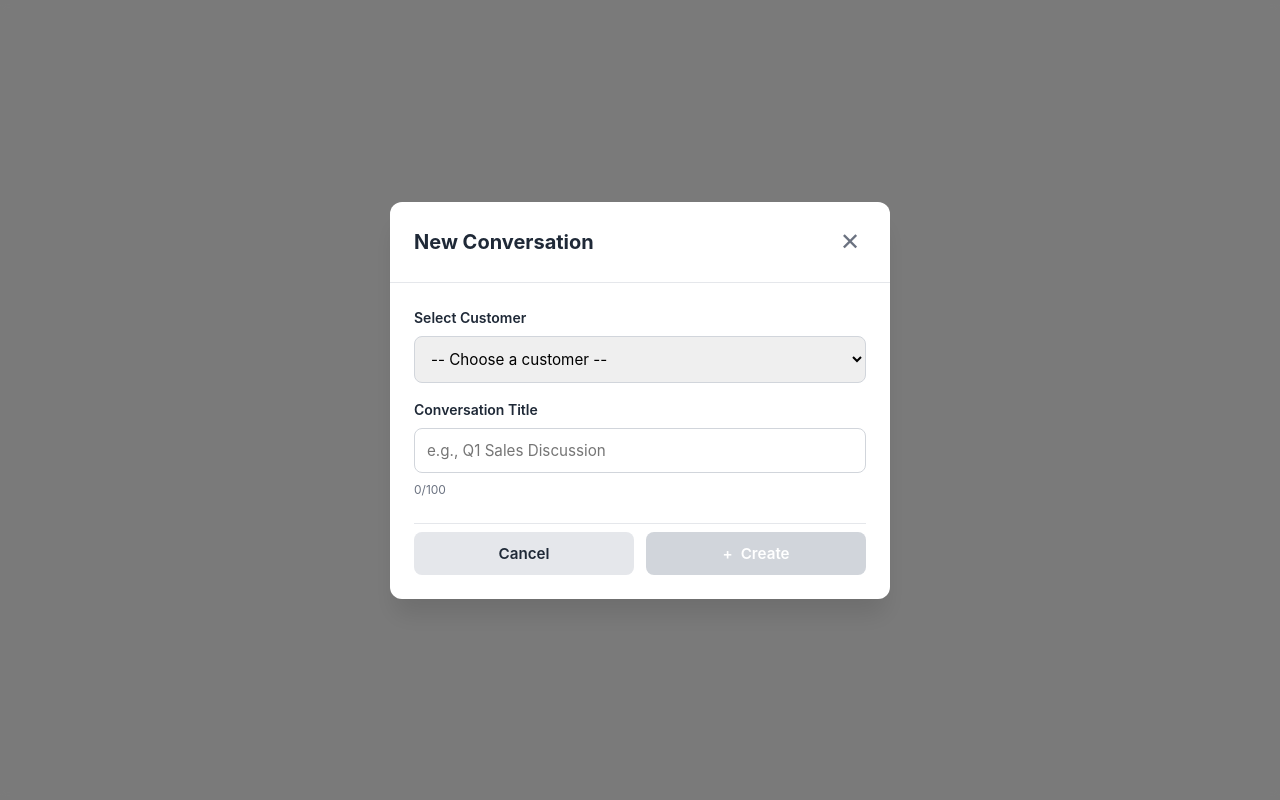
it: CreateConversationModal › should enable submit button when required fields are filled
Expected: the button "+ Create" is disabled, [646,532,866,574]
Select "Test Corp (test@corp.com)" in the dropdown labelled "Select Customer" at (640, 359), box [414,336,866,382]
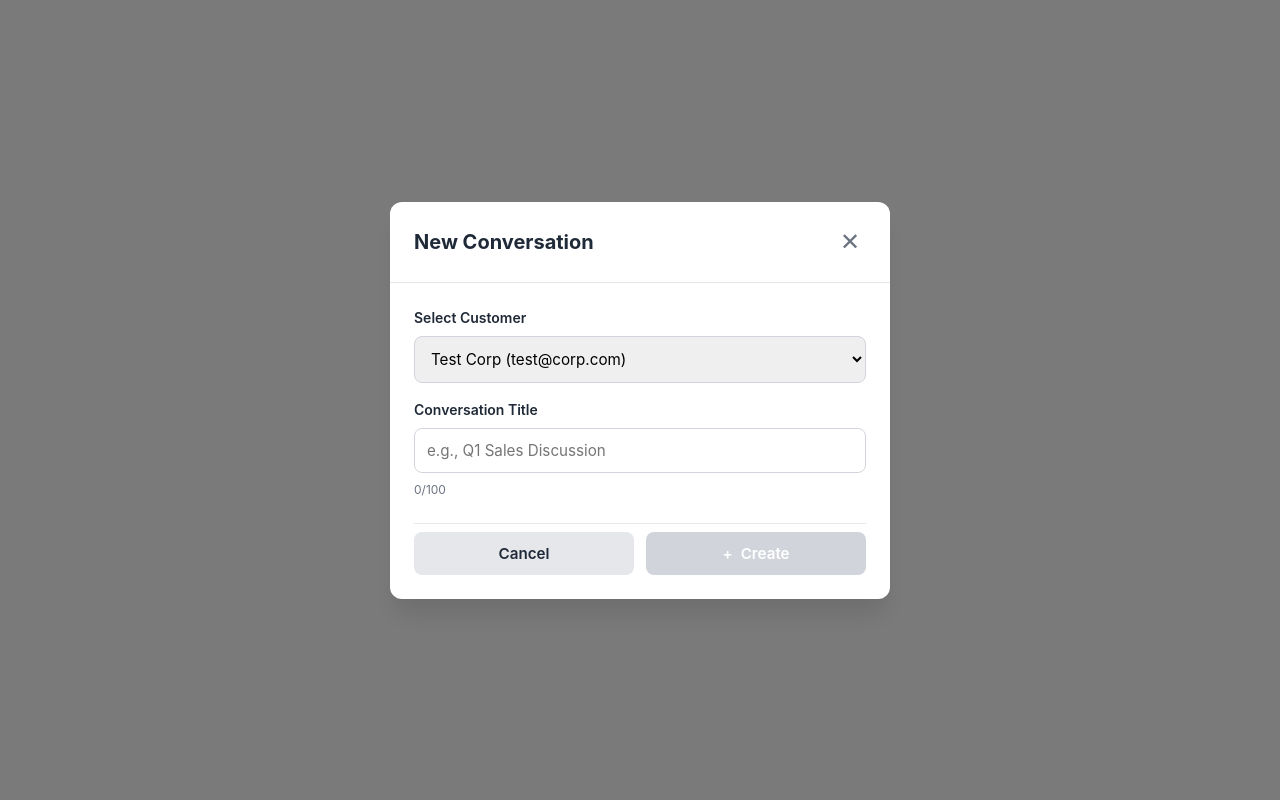
Type "Q1 Discussion" into the field labelled "Conversation Title" at (640, 450), box [414,428,866,472]
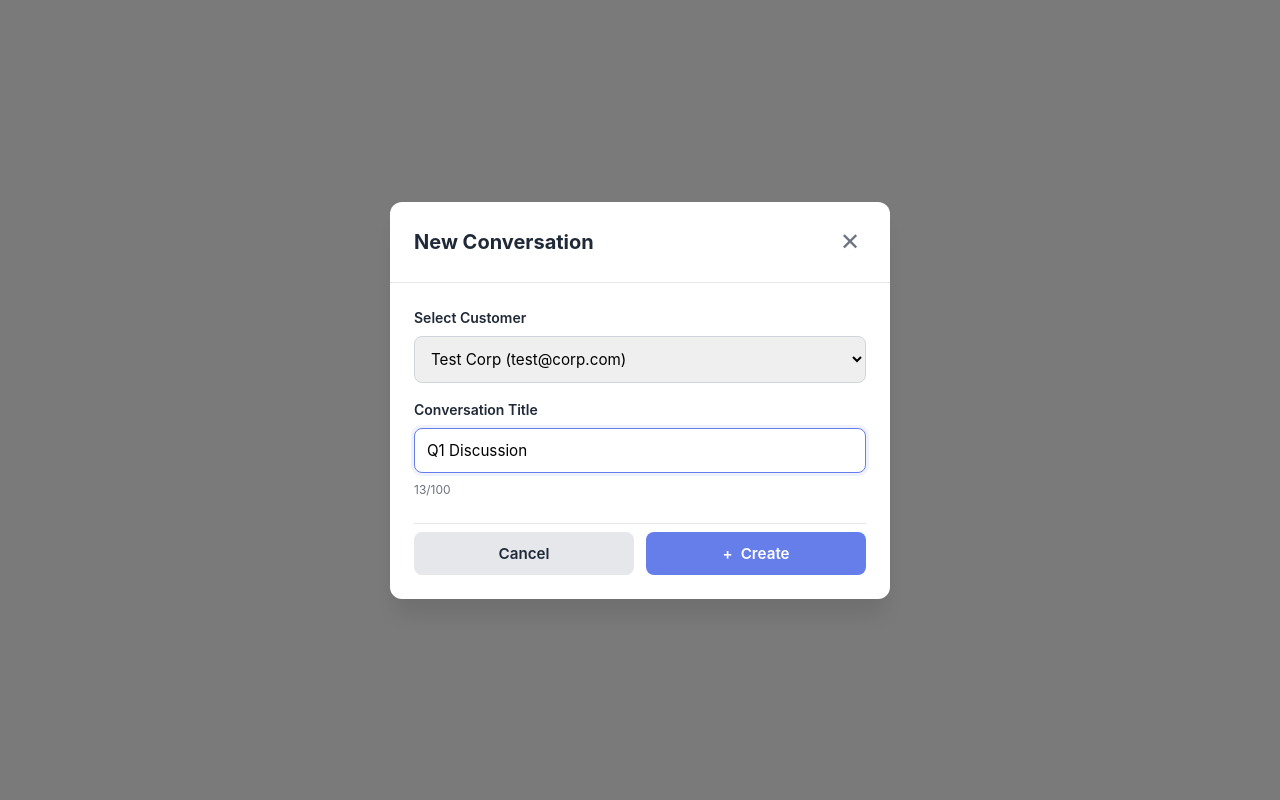
Result: the button "+ Create" is enabled at [646,532,866,574]
